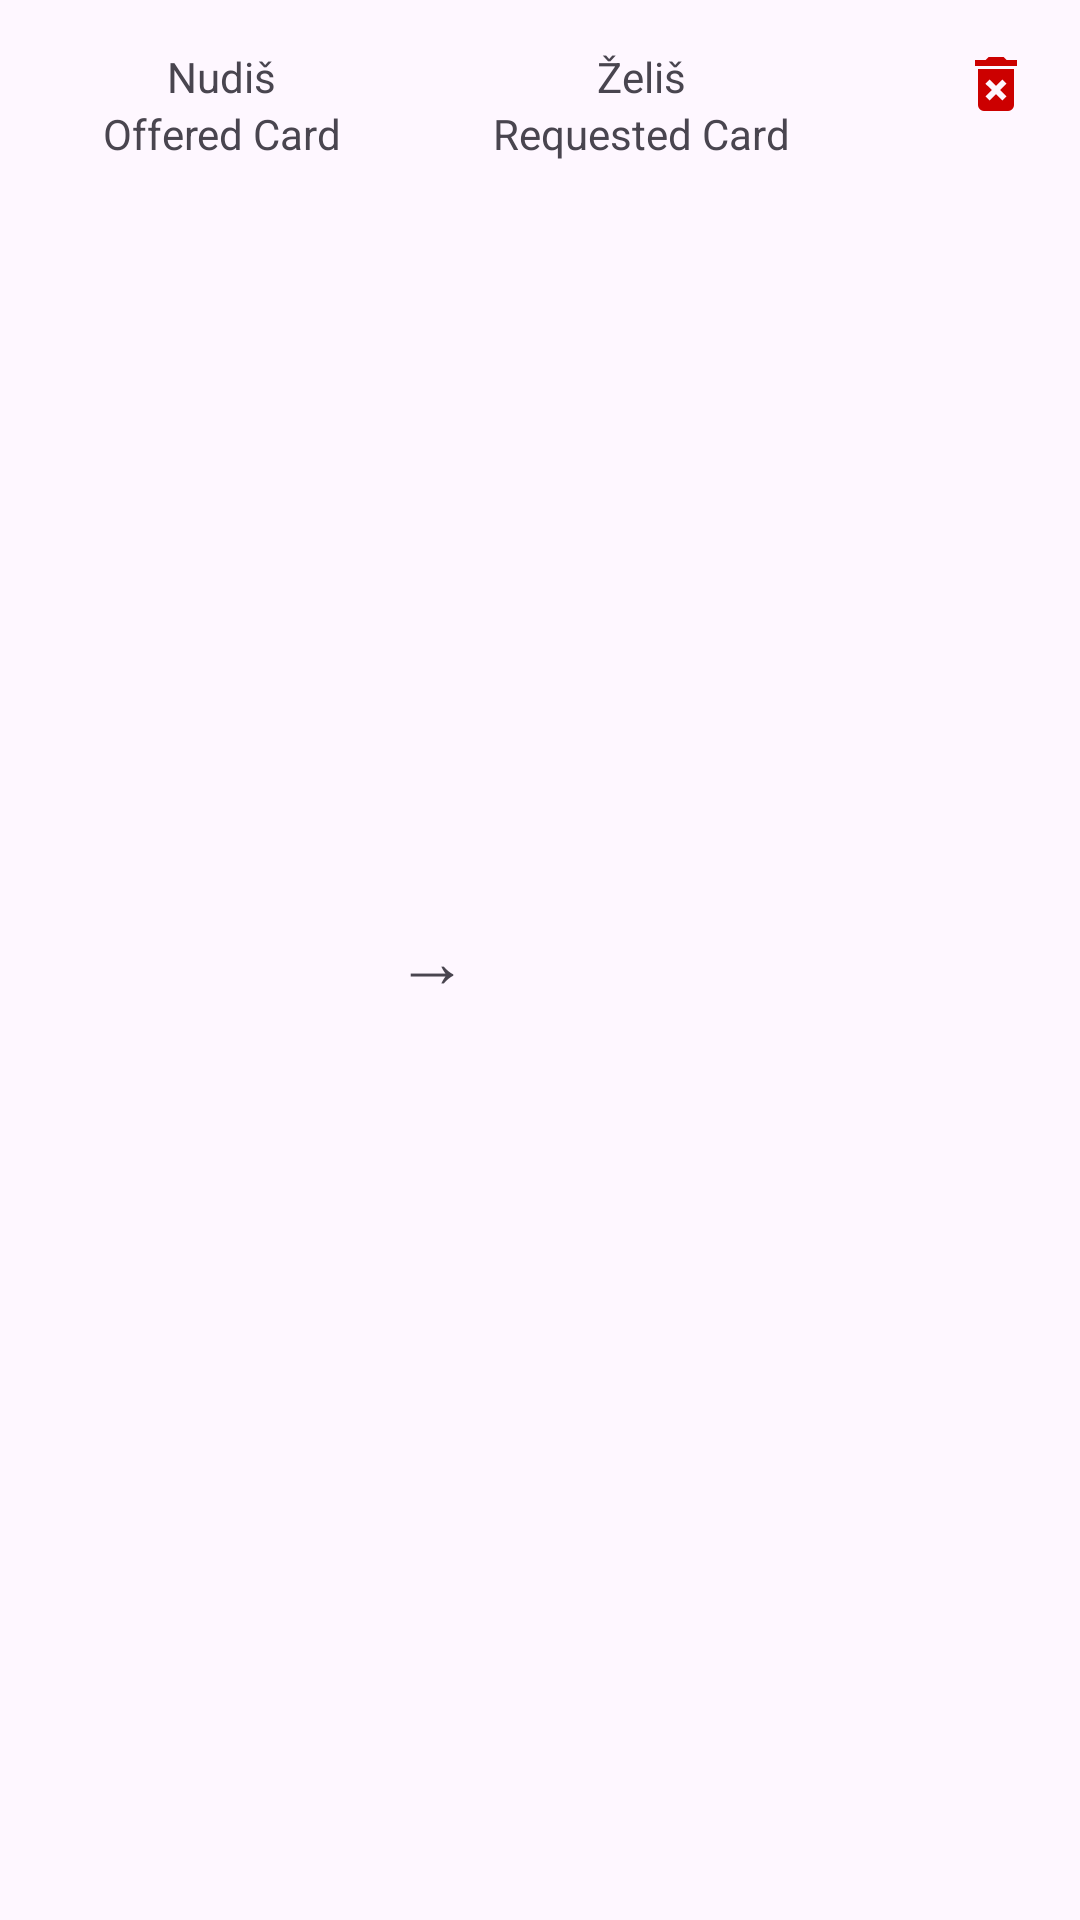

Icon bounding boxes for this 1080×1920 phone screenshot, format (x1, y1, x2, y2):
delete: (975, 57, 1017, 111)
